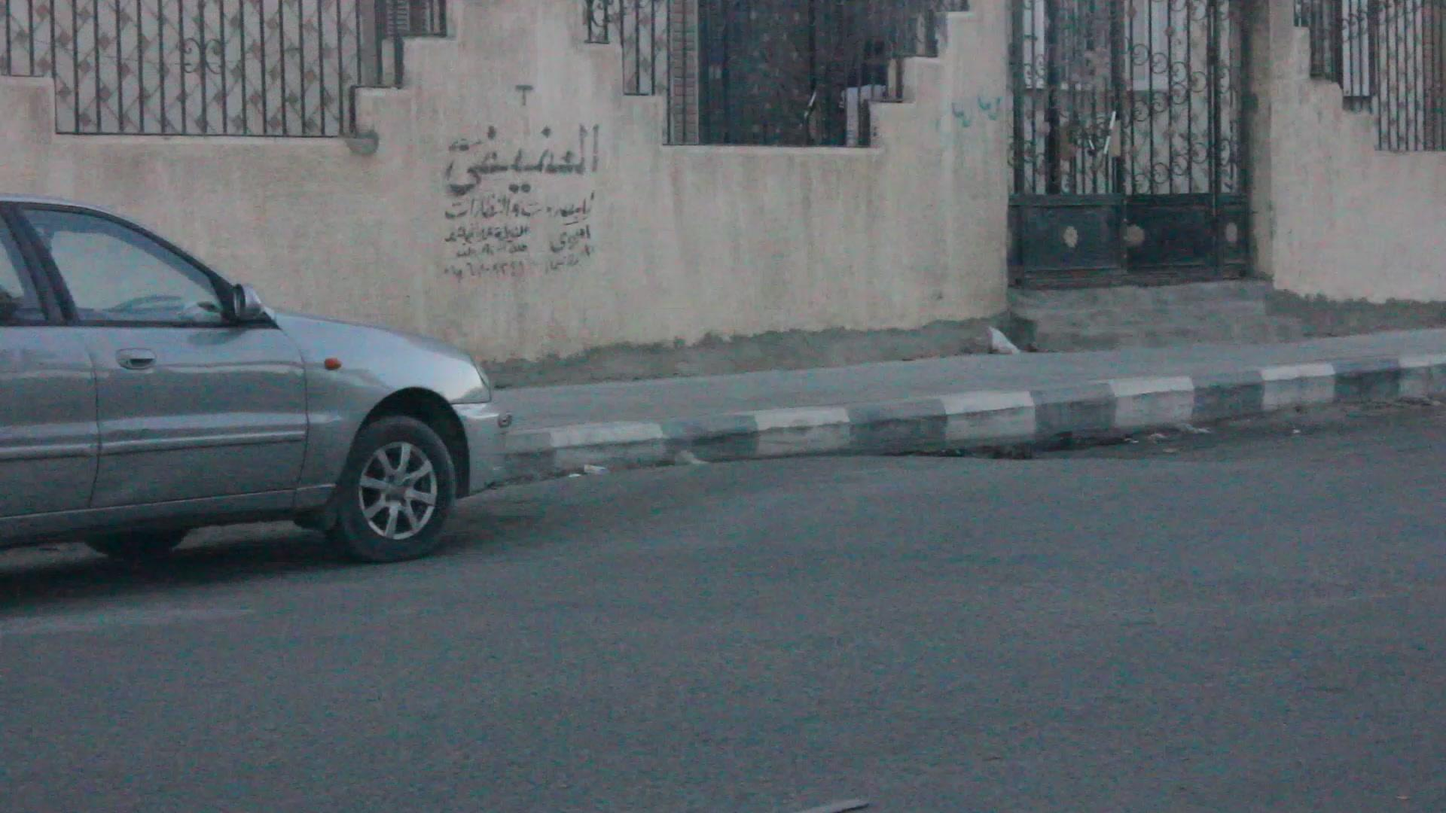Bump: (444, 452, 1242, 554)
